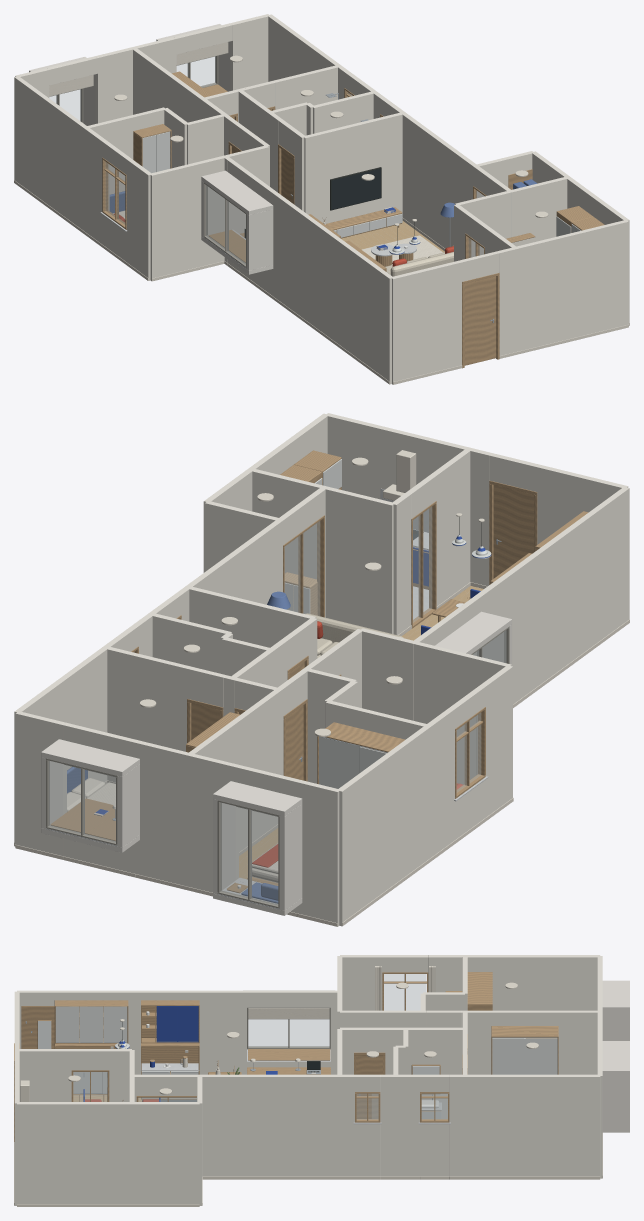
Rendered from house.glb.
3 views of the same model, one above another, from view 1: azimuth 30°, elevation 25°; view 2: azimuth 150°, elevation 25°; view 3: azimuth 270°, elevation 25° (orthographic). The views are drawn at different scales.
Parts seen in each view (by area): view 1: Wall 04 / pier.001, Wall 03 / pier.001, Wall 01 / pier, Wall 13 / pier, Wall 04 / pier, Wall 07 / pier.002, Wall 02 / pier, Wall 00 / pier.001, Wall 08 / pier, Wall 15 / pier, Wall 07 / pier, entry_door / oak door leaf (+42 smaller); view 2: Wall 03 / pier.001, Wall 01 / pier, Wall 00 / pier.001, Wall 16 / pier, Wall 04 / pier.001, Wall 10 / pier.002, Wall 02 / pier, Wall 08 / pier, Wall 00 / pier, Wall 00 / pier.002, Wall 07 / pier, Wall 17 / pier.001 (+53 smaller); view 3: Wall 05 / pier, Wall 07 / pier.002, Wall 07 / pier, Wall 01 / pier, Wall 03 / pier.001, Wall 08 / pier, Wall 07 / pier.001, Wall 11 / pier, Wall 17 / pier.001, Wall 01 / pier.001, Wall 07 / sill, Wall 03 / lintel (+51 smaller).
Part boxes in pixels (left/top/right/bottom): Wall 04 / pier.001: left=497, top=220, right=628, bottom=355; Wall 03 / pier.001: left=271, top=191, right=393, bottom=384; Wall 01 / pier: left=14, top=76, right=106, bottom=244; Wall 13 / pier: left=304, top=112, right=402, bottom=223; Wall 04 / pier: left=391, top=260, right=461, bottom=384; Wall 07 / pier.002: left=393, top=107, right=476, bottom=248; Wall 02 / pier: left=150, top=155, right=226, bottom=280; Wall 00 / pier.001: left=95, top=37, right=176, bottom=123; Wall 08 / pier: left=132, top=48, right=206, bottom=122; Wall 15 / pier: left=511, top=177, right=568, bottom=246; Wall 07 / pier: left=268, top=14, right=348, bottom=99; entry_door / oak door leaf: left=464, top=276, right=496, bottom=365; Wall 03 / pier.001: left=473, top=487, right=629, bottom=704; Wall 01 / pier: left=339, top=708, right=454, bottom=926; Wall 00 / pier.001: left=135, top=740, right=238, bottom=892; Wall 16 / pier: left=324, top=486, right=394, bottom=634; Wall 04 / pier.001: left=325, top=413, right=492, bottom=586; Wall 10 / pier.002: left=107, top=647, right=190, bottom=782; Wall 02 / pier: left=413, top=641, right=511, bottom=784; Wall 08 / pier: left=188, top=687, right=283, bottom=851; Wall 00 / pier: left=297, top=780, right=340, bottom=926; Wall 00 / pier.002: left=15, top=711, right=66, bottom=856; Wall 07 / pier: left=14, top=639, right=118, bottom=846; Wall 17 / pier.001: left=431, top=449, right=471, bottom=606; Wall 05 / pier: left=17, top=1102, right=199, bottom=1203; Wall 07 / pier.002: left=199, top=1074, right=354, bottom=1176; Wall 07 / pier: left=449, top=1074, right=600, bottom=1176; Wall 01 / pier: left=428, top=955, right=600, bottom=1010; Wall 03 / pier.001: left=17, top=990, right=246, bottom=1074; Wall 08 / pier: left=462, top=1010, right=599, bottom=1074; Wall 07 / pier.001: left=380, top=1074, right=419, bottom=1176; Wall 11 / pier: left=385, top=1027, right=464, bottom=1118; Wall 17 / pier.001: left=17, top=1049, right=71, bottom=1101; Wall 01 / pier.001: left=340, top=955, right=382, bottom=1010; Wall 07 / sill: left=420, top=1124, right=449, bottom=1176; Wall 03 / lintel: left=247, top=990, right=330, bottom=1007.
Bounding box in the file's own units: 8.46 × 2.71 × 14.67.
38 materials, 14 textured.
